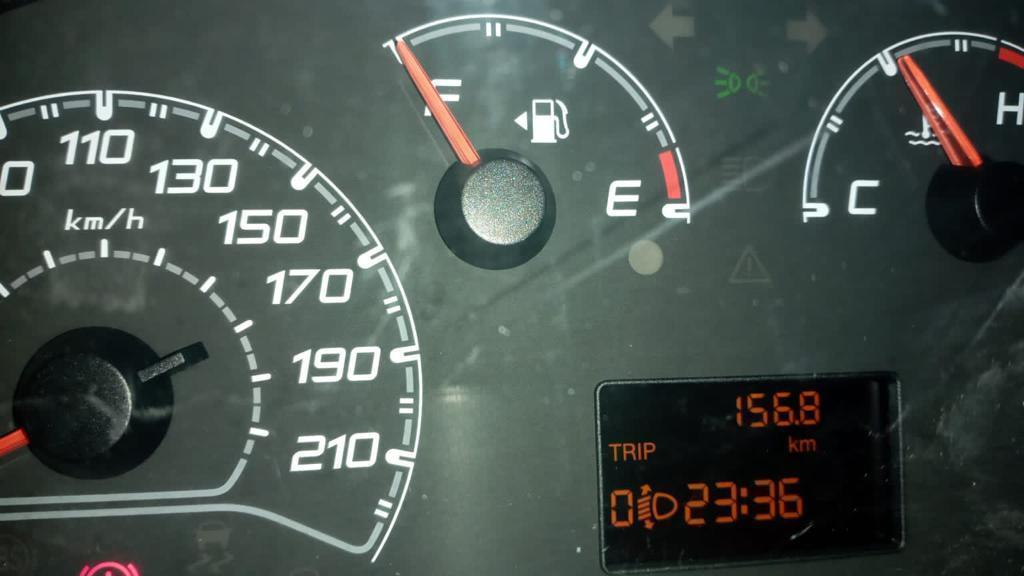,: (794, 418, 799, 428)
0: (609, 486, 635, 527)
1: (734, 394, 743, 431)
2: (684, 481, 709, 527)
3: (752, 477, 776, 521), (714, 480, 736, 524)
5: (746, 390, 769, 428)
6: (778, 475, 805, 519), (772, 390, 794, 426)
8: (799, 390, 822, 424)
X: (739, 484, 749, 517), (622, 440, 636, 463), (607, 440, 621, 463), (643, 439, 656, 460), (800, 438, 816, 451), (788, 436, 798, 453), (637, 439, 642, 464)
odometer: (590, 369, 909, 567)
